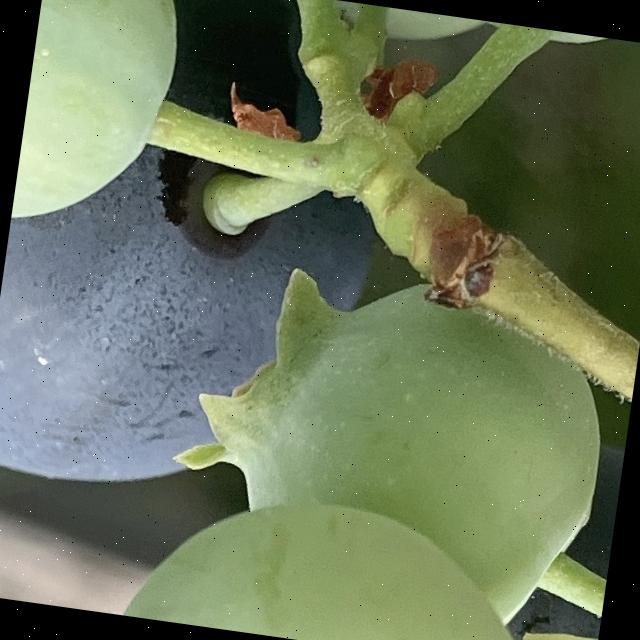Blueberries: (10, 0, 189, 246)
